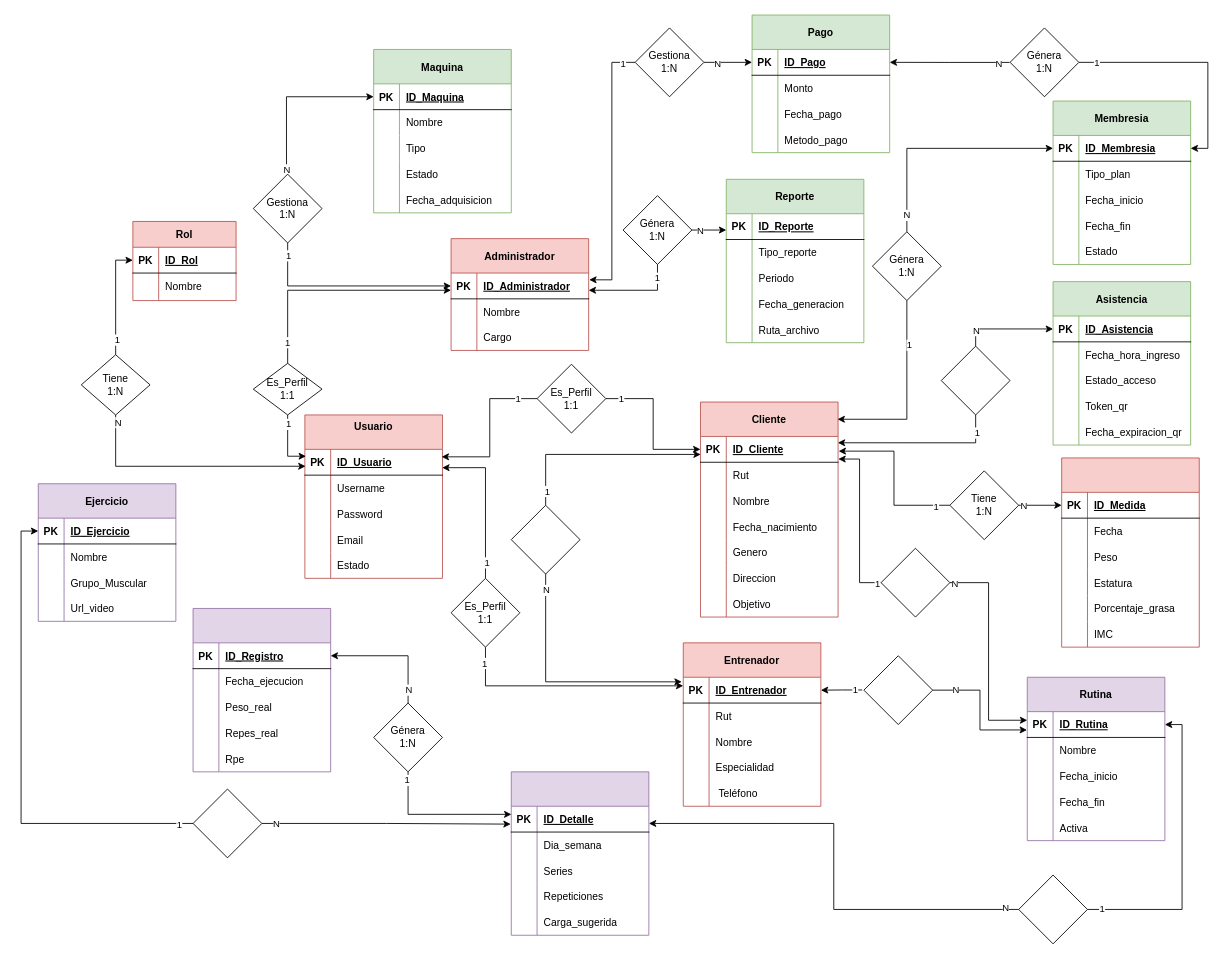
Some shapes in this 1230 by 959 pixel diagram are drawn without their labels. The shapes that lost their labels are listed below. From the top down, each one's box as (x1, y1, x2, y2) in pixels, then its label:
(940, 345, 1010, 415): Registra 1:N
(510, 504, 580, 574): Supervisa 1:N
(1061, 457, 1199, 647): Medida_fisica
(880, 547, 950, 617): Posee 1:N
(192, 608, 331, 772): Registro_progreso
(863, 655, 933, 725): Crea 1:N
(192, 788, 262, 858): Se usa 1:N
(510, 771, 649, 935): Detalle_rutina
(1018, 874, 1087, 944): Contiene 1:N
